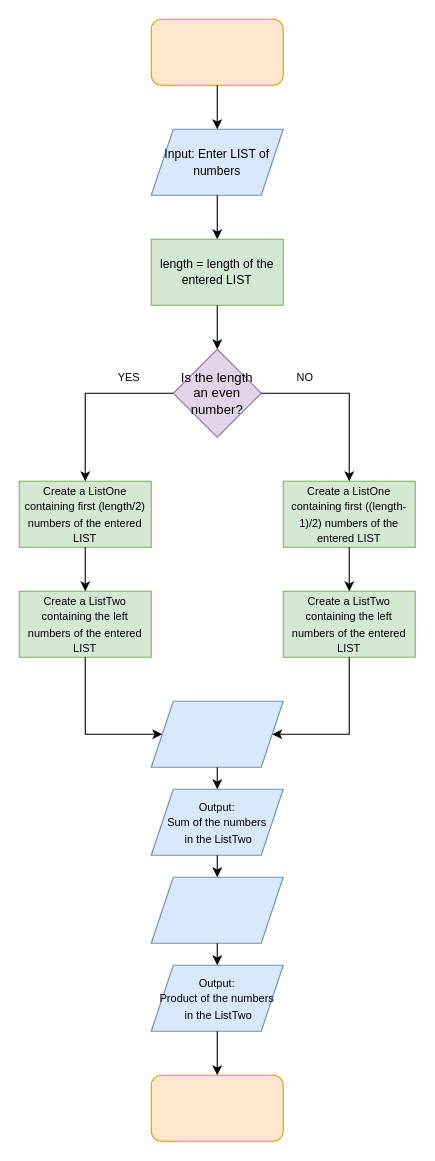
This 435x1161 diagram has some shape labels left out. The centre of each missing label's shape, as x and y in pixels:
"End" belongs at (216,1107).
"Output: Product of the numbers in the ListOne" belongs at (216,909).
"Output: Sum of the numbers in the ListOne" belongs at (216,733).
"Start" belongs at (216,51).
